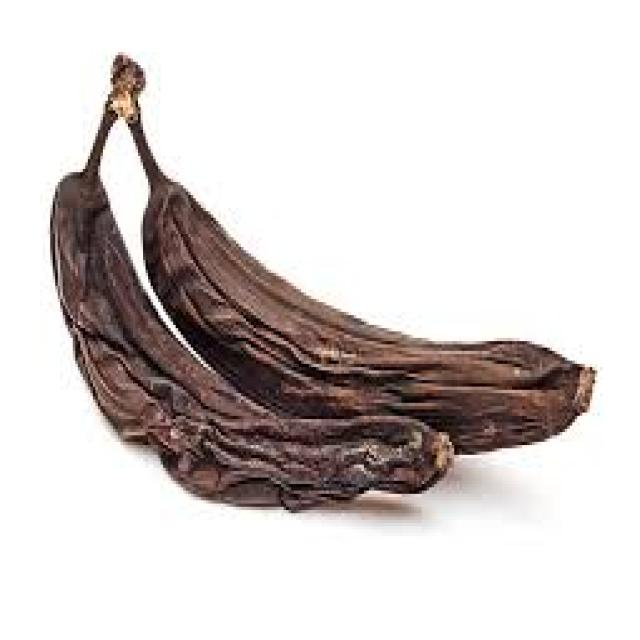Banana: (171, 269, 589, 441), (60, 196, 159, 492)
